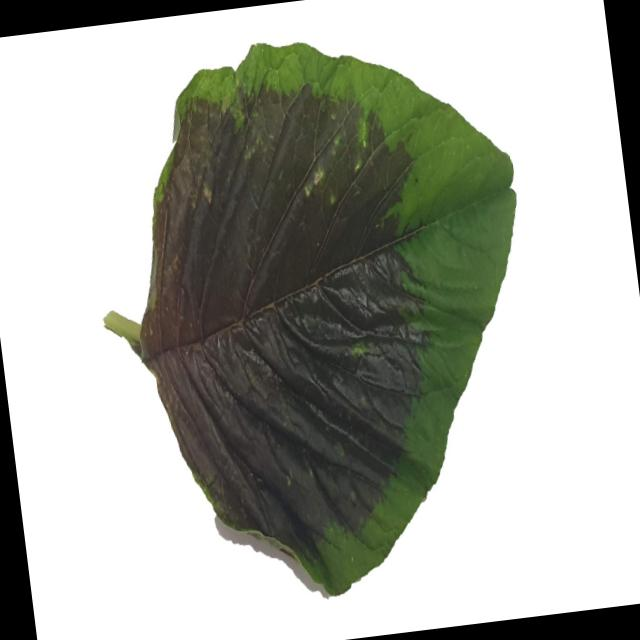Medicinal-Arive Dantu: (72, 8, 562, 623)
